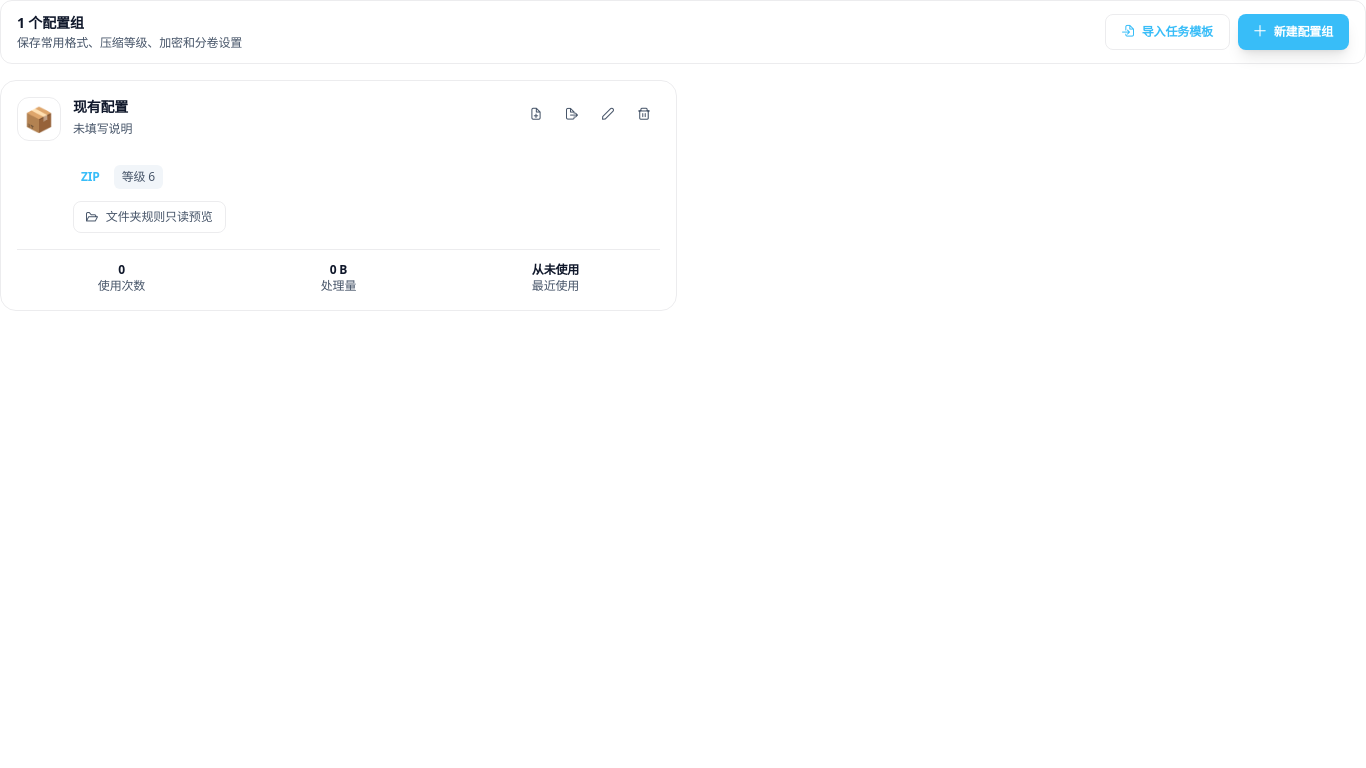
Test: swm1540 profile native size stays enabled and cannot be disabled
Click the button "新建配置组" at (1293, 32), box [1238,14,1349,50]
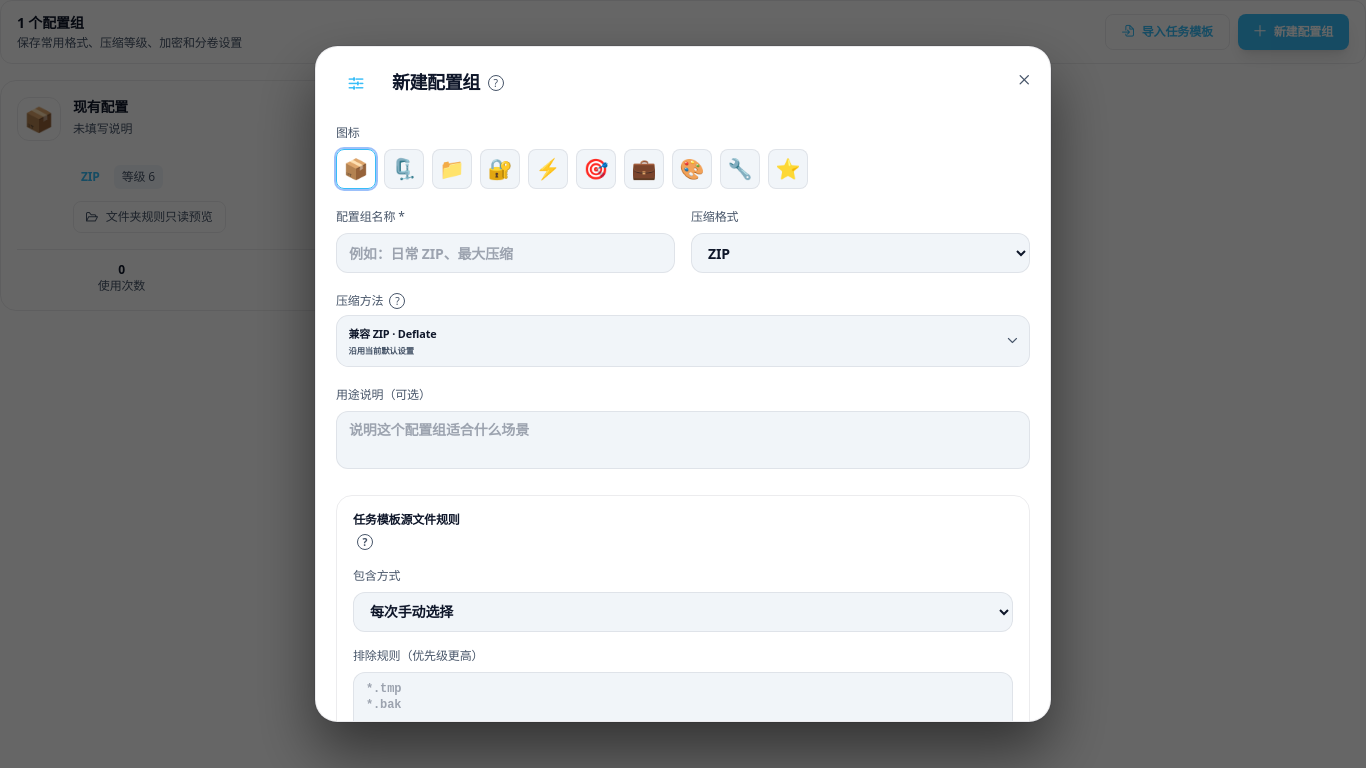
Select "SWM（原生分包）" in the dropdown labelled "压缩格式" at (860, 253), box [691,233,1030,273]
(page scrolled)
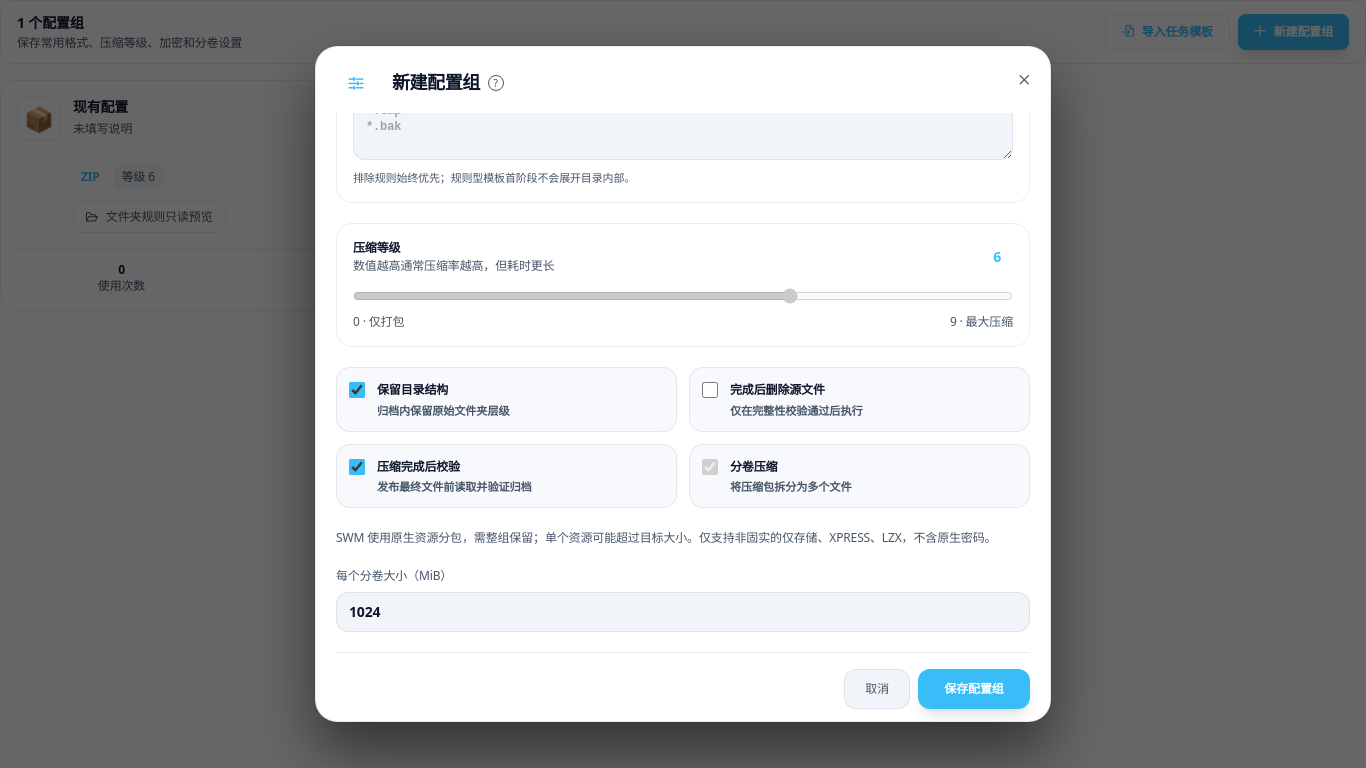
expect the text with test id "profile-swm-hint" shows "单个资源可能超过目标大小": met, box [336,529,996,546]
expect the checkbox labelled "分卷压缩 将压缩包拆分为多个文件" is checked: met, box [702,459,718,475]
expect the checkbox labelled "分卷压缩 将压缩包拆分为多个文件" is disabled: met, box [702,459,718,475]
